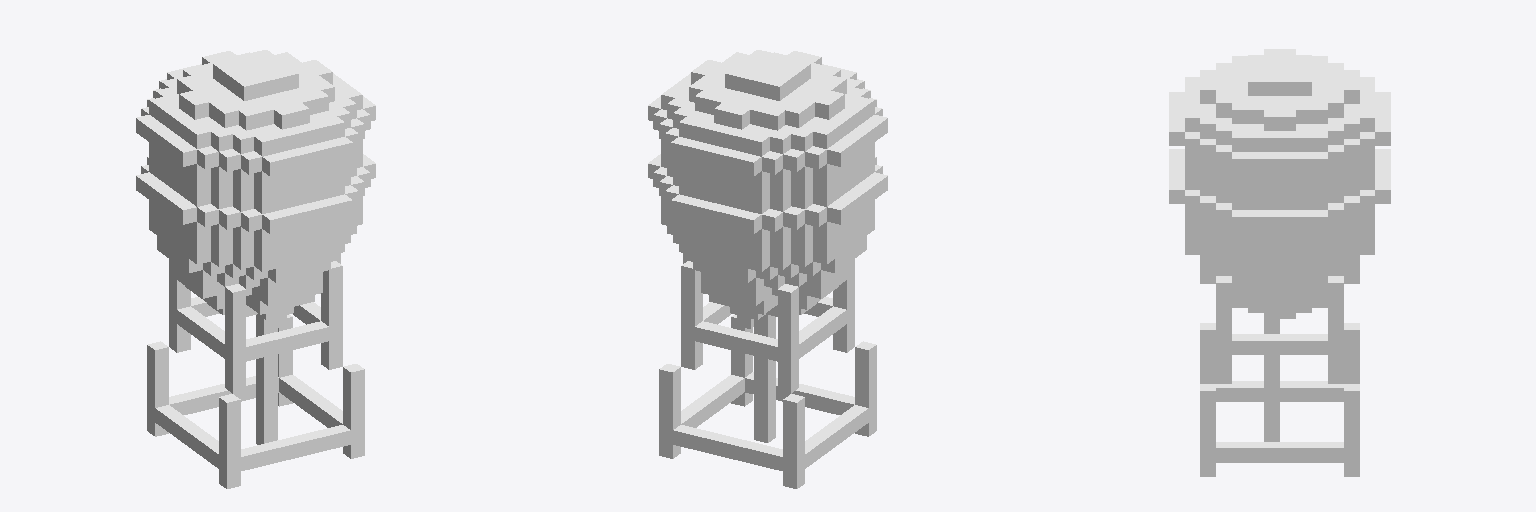
Rendered from OldArt5.obj.
3 renders of one model, left to right at view 1: azimuth 30°, elevation 25°; view 2: azimuth 150°, elevation 25°; view 3: azimuth 270°, elevation 25°, orthographic.
Parts seen in each view (by area): view 1: object 1; view 2: object 1; view 3: object 1.
Boxes of the visible parts, box(x1,y1,x2,y2) form: object 1: box(136, 50, 375, 488); object 1: box(648, 50, 887, 488); object 1: box(1169, 49, 1390, 476).
Bounding box in the file's own units: 1.4 × 2.6 × 1.4.